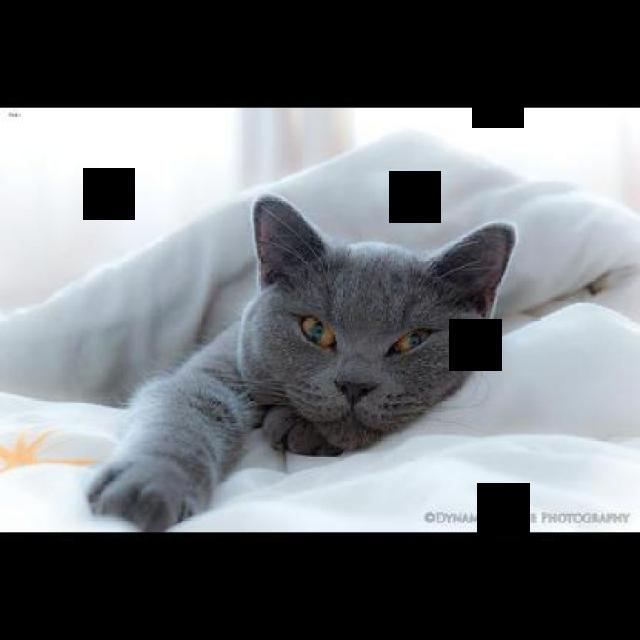unauthorized: (84, 191, 516, 531)
